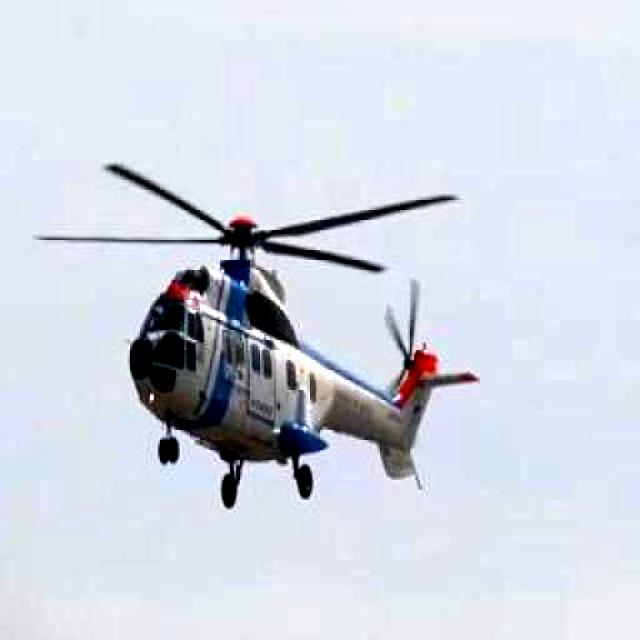drone: (0, 149, 514, 531)
